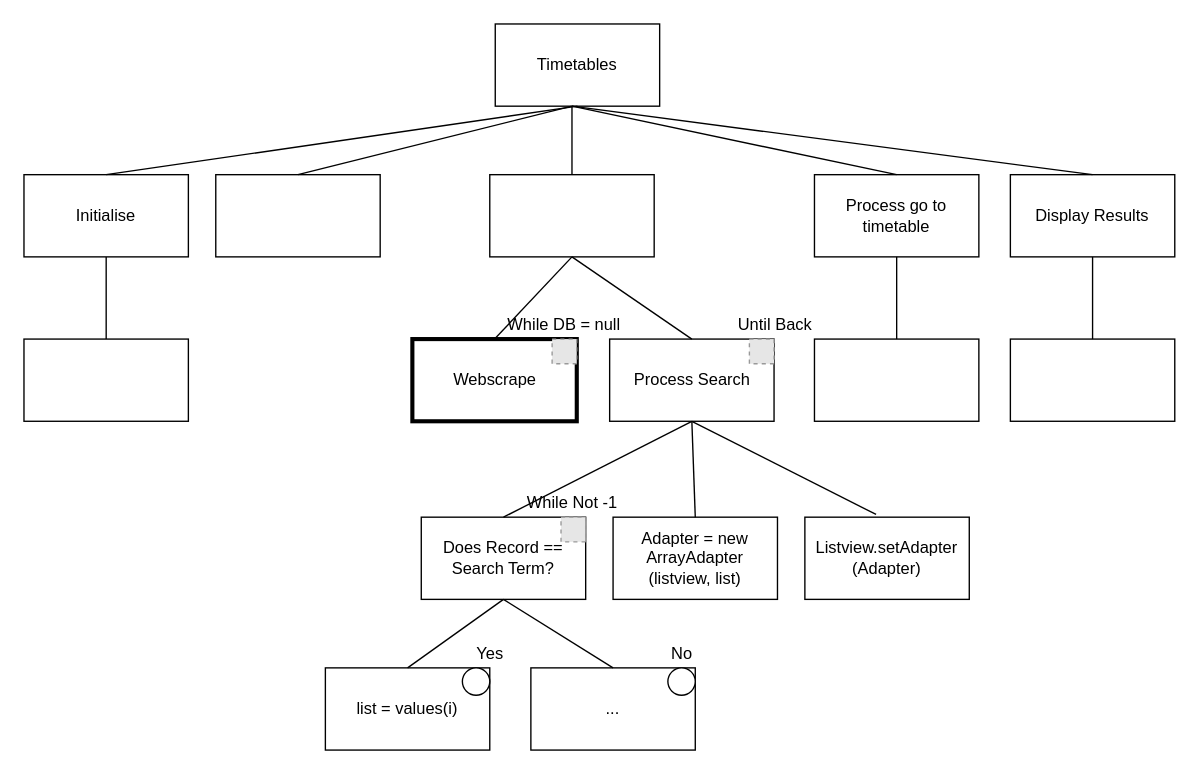
The diagram is 1199 pixels wide and 774 high, and some of its shapes have lost their labels. Grey dashed boxes stand in for pictures. The centre of each missing label's shape, as x and y in pixels:
"Display ListView" belongs at pixel 1092 379.
"Enter Search Term" belongs at pixel 297 215.
"list = newArrayList<String>" belongs at pixel 105 379.
"on list item click, open timetable selector" belongs at pixel 896 379.
"Process Searches" belongs at pixel 571 215.
